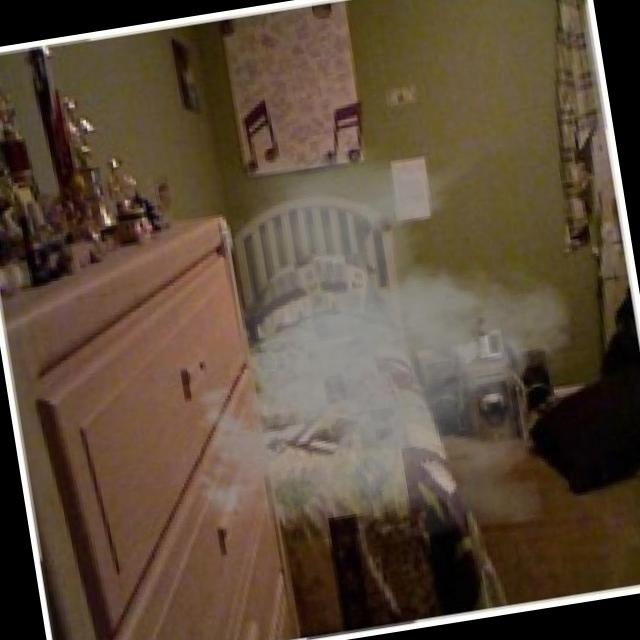Smoke: (136, 112, 619, 574)
